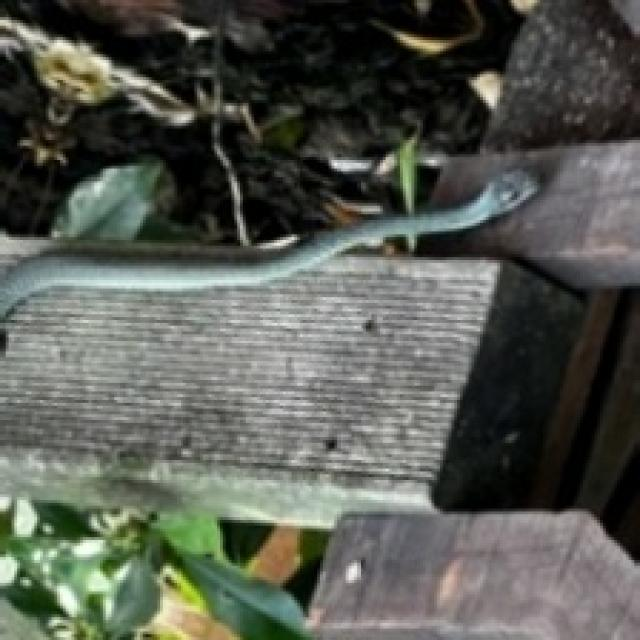paradise tree snake: (0, 169, 534, 317)
